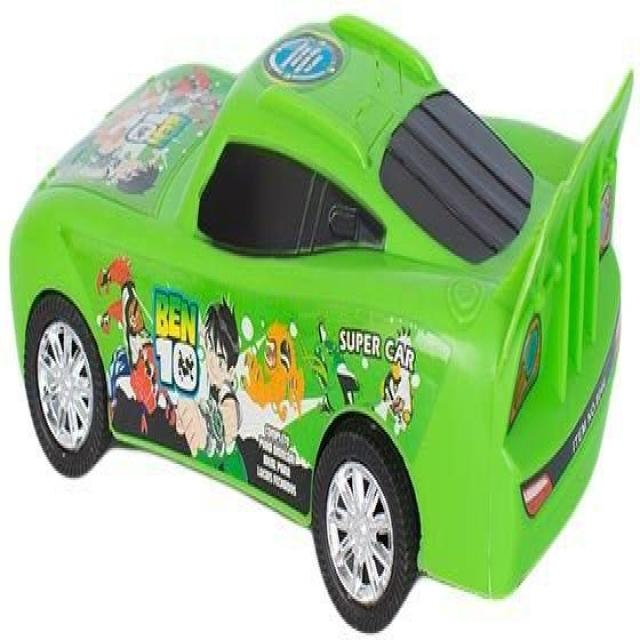Car: (8, 14, 634, 633)
